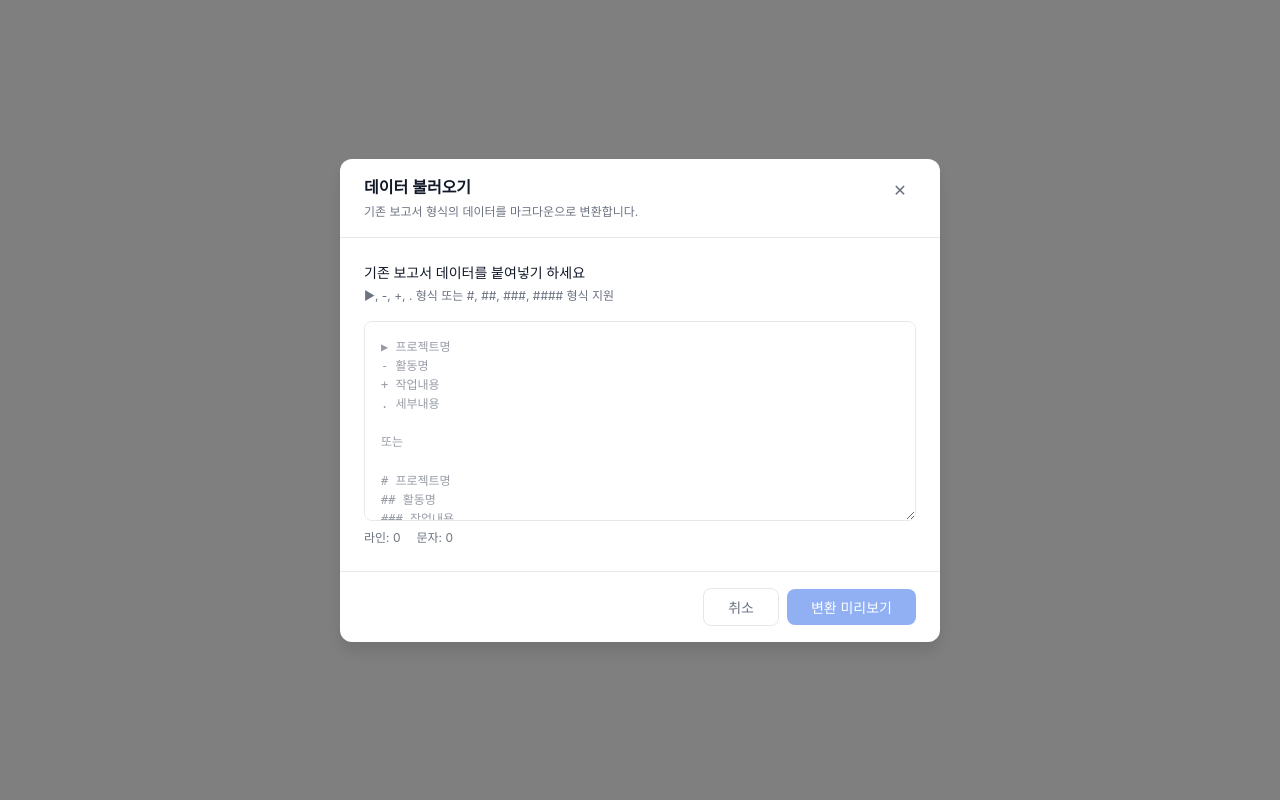
Test: ImportModal › 텍스트 입력 › 입력이 있으면 변환 버튼이 활성화된다
Type "# 테스트" into the text box at (640, 420), box [364,320,916,520]
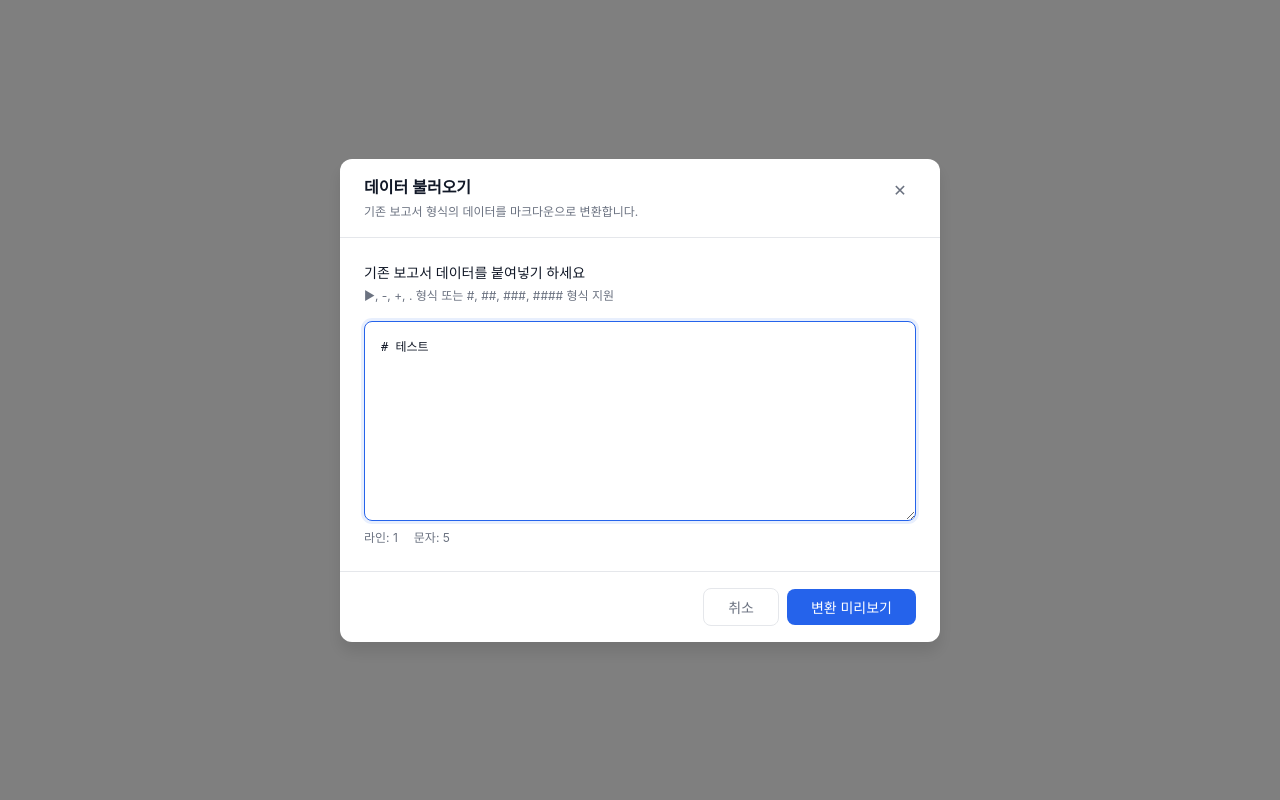
Result: the button "변환 미리보기" is enabled at [787,588,916,624]
